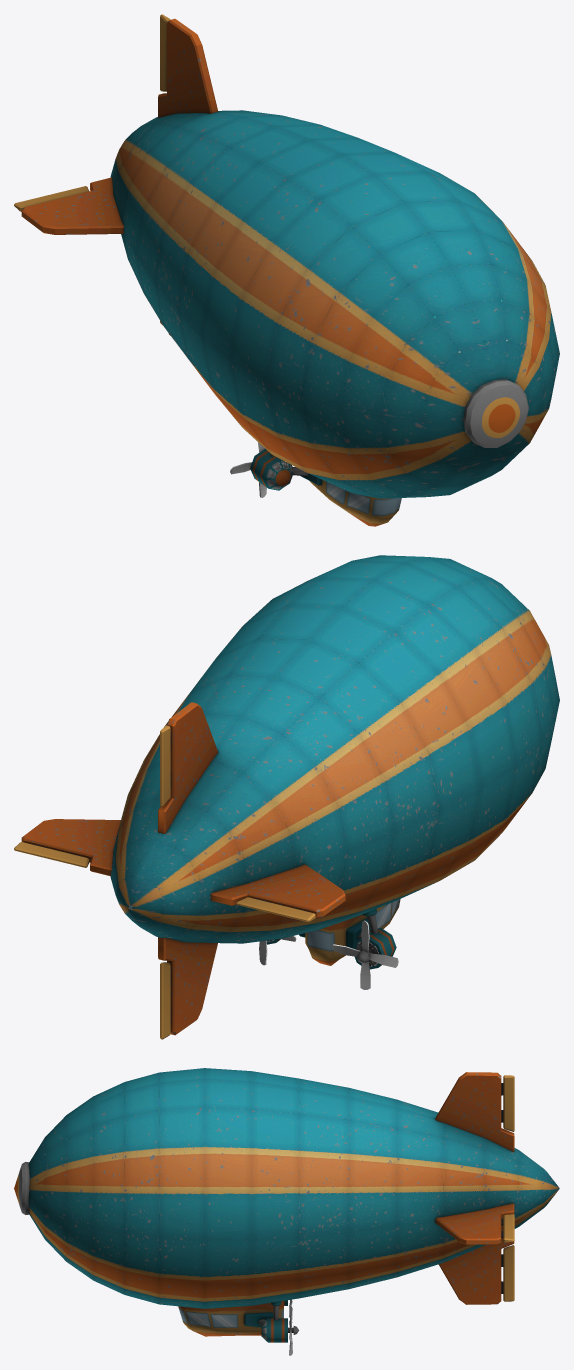
The model's file is Airship.fbx.
The picture shows the model from 3 angles, top to bottom: view 1: azimuth 30°, elevation 25°; view 2: azimuth 150°, elevation 25°; view 3: azimuth 270°, elevation 25°; orthographic projection. The views are drawn at different scales.
Visible parts, largest first — view 1: Airship, Cabin, Engine; view 2: Airship, Cabin, Rudder, Engine, Turbine_R, Aileron_R, Aileron_L; view 3: Airship, Cabin, Rudder, Engine.
Part boxes in pixels (left/top/right/bottom): Airship: left=21, top=18, right=559, bottom=498; Cabin: left=310, top=480, right=401, bottom=526; Engine: left=250, top=448, right=322, bottom=490; Airship: left=21, top=555, right=559, bottom=1035; Cabin: left=305, top=899, right=400, bottom=965; Rudder: left=160, top=725, right=170, bottom=1039; Engine: left=266, top=909, right=396, bottom=969; Turbine_R: left=332, top=920, right=398, bottom=989; Aileron_R: left=236, top=897, right=315, bottom=921; Aileron_L: left=14, top=842, right=89, bottom=867; Airship: left=14, top=1068, right=559, bottom=1308; Cabin: left=178, top=1301, right=283, bottom=1336; Rudder: left=503, top=1075, right=514, bottom=1301; Engine: left=244, top=1300, right=298, bottom=1342.
Size of the model in its own units: 101 by 115 by 216.
